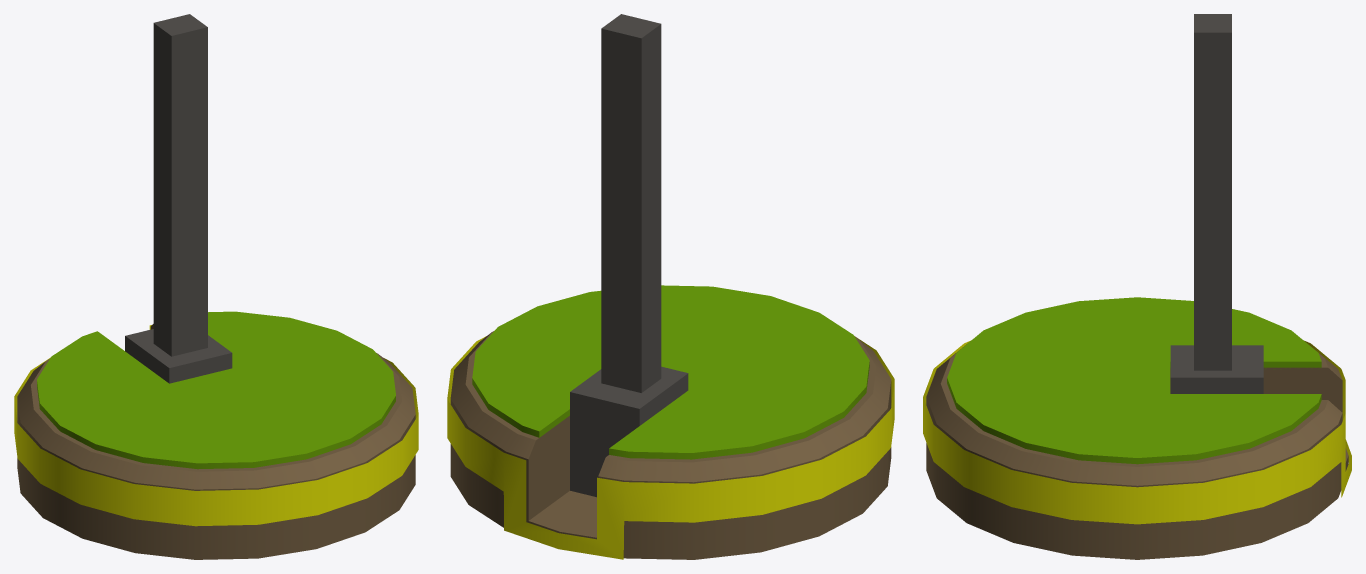
The model's file is TargetBase.fbx.
The picture shows the model from 3 angles, left to right: view 1: azimuth 30°, elevation 25°; view 2: azimuth 150°, elevation 25°; view 3: azimuth 270°, elevation 25°; orthographic projection. The views are drawn at different scales.
Parts seen in each view (by area): view 1: grass, polySurface4, post, ring, base2; view 2: grass, polySurface4, post, ring, base2; view 3: grass, polySurface4, ring, post, base2.
Boxes of the visible parts, bbox=[...] form: grass: bbox=[37, 311, 395, 469]; polySurface4: bbox=[17, 324, 415, 559]; post: bbox=[153, 14, 207, 356]; ring: bbox=[14, 325, 418, 526]; base2: bbox=[125, 329, 232, 383]; grass: bbox=[472, 285, 869, 459]; polySurface4: bbox=[450, 331, 891, 559]; post: bbox=[601, 14, 661, 392]; ring: bbox=[447, 336, 894, 559]; base2: bbox=[570, 366, 688, 497]; grass: bbox=[947, 297, 1321, 464]; polySurface4: bbox=[926, 342, 1348, 559]; ring: bbox=[923, 340, 1351, 524]; post: bbox=[1194, 14, 1231, 370]; base2: bbox=[1170, 345, 1263, 393].
Bounding box in the file's own units: 0.9468 × 1.09 × 0.9468.
